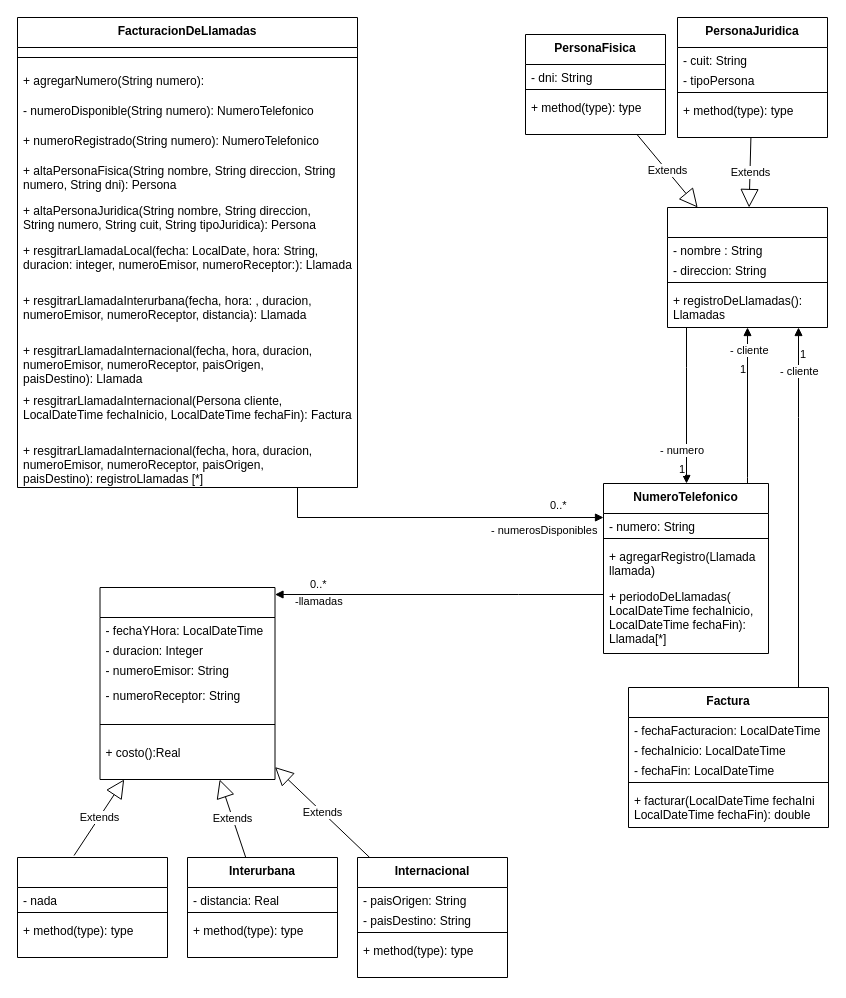
The diagram is 846 pixels wide and 998 high, and some of its shapes have lost their labels. Each missing label, with the box of its shape:
Llamada: (99, 586, 275, 780)
Local: (16, 856, 168, 958)
Persona: (666, 206, 828, 328)
